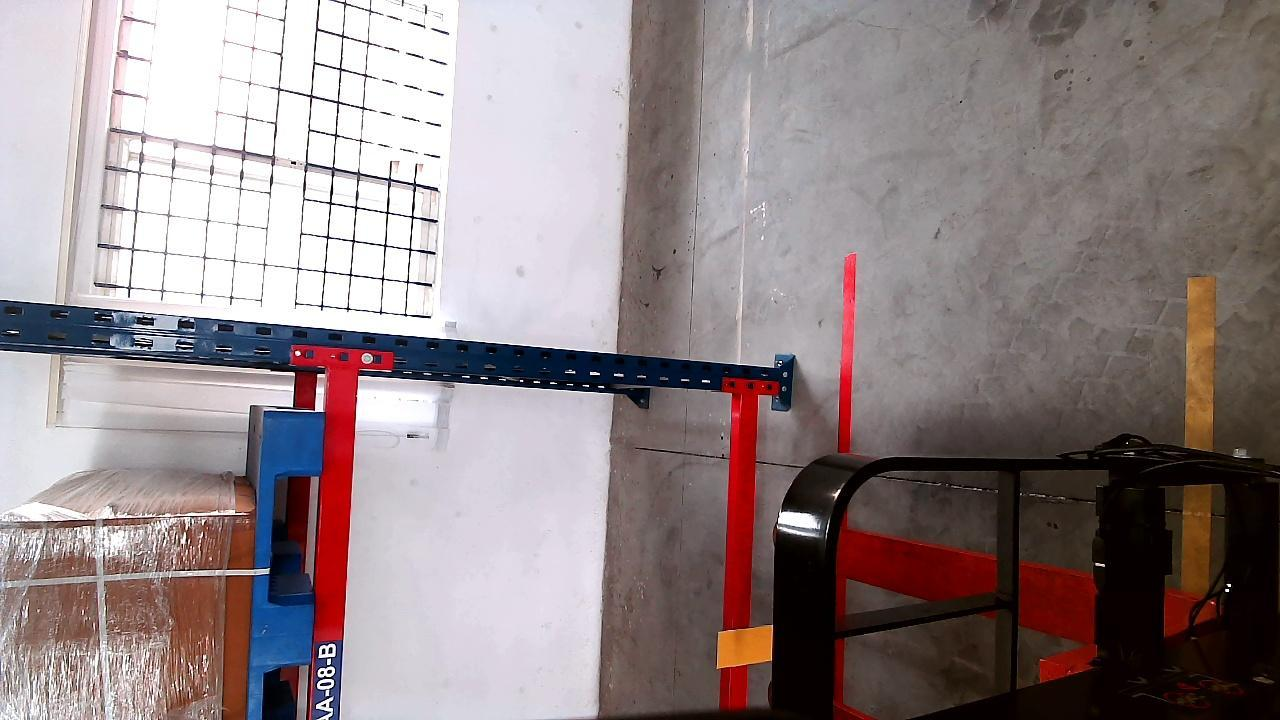red_line: (837, 251, 857, 451)
yellow_line: (1179, 271, 1213, 592)
